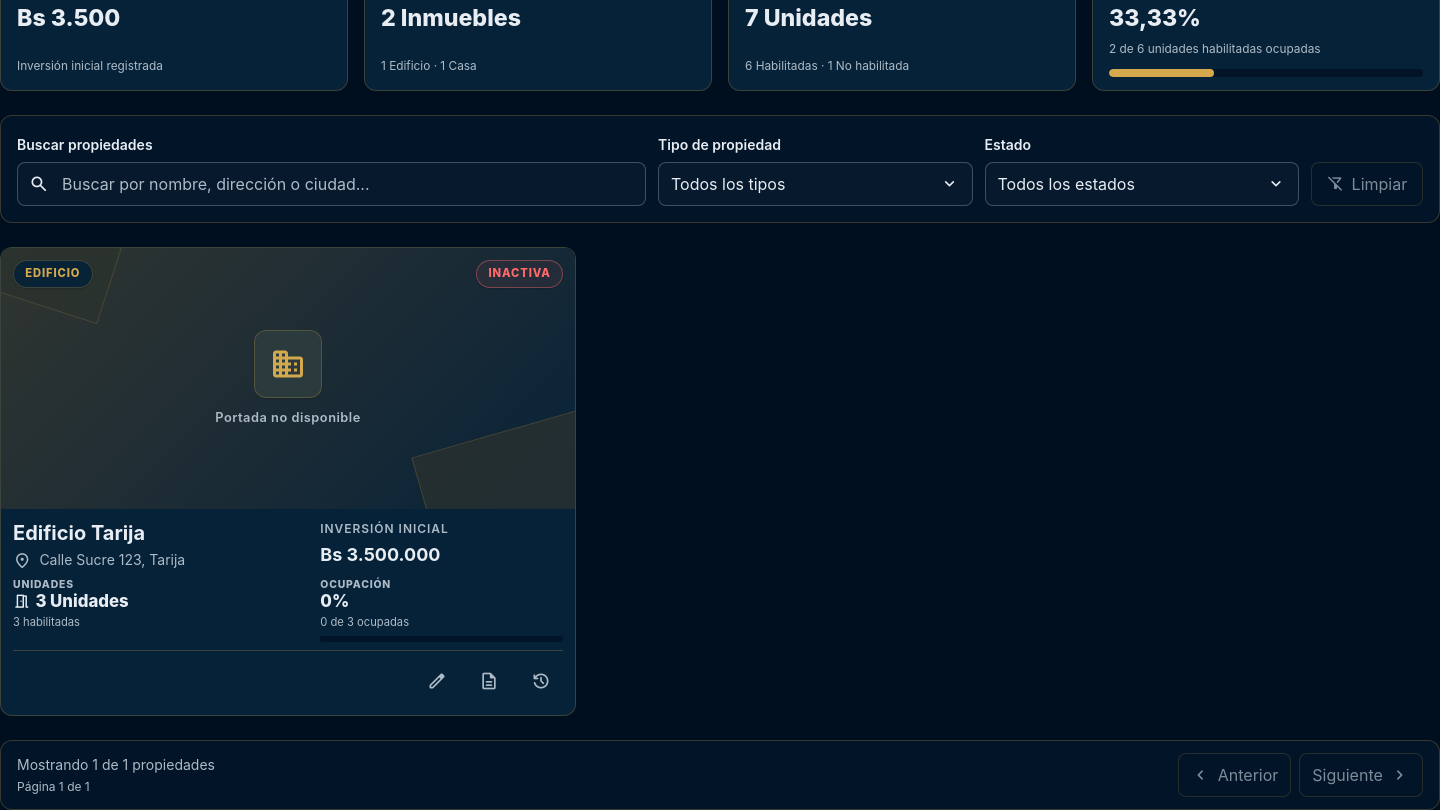
it: PropiedadesListComponent › activates an inactive property after confirmation and refreshes the list and summary
(page scrolled)
Click the button named "Activar propiedad": (541, 681) 519,659 -> 563,703
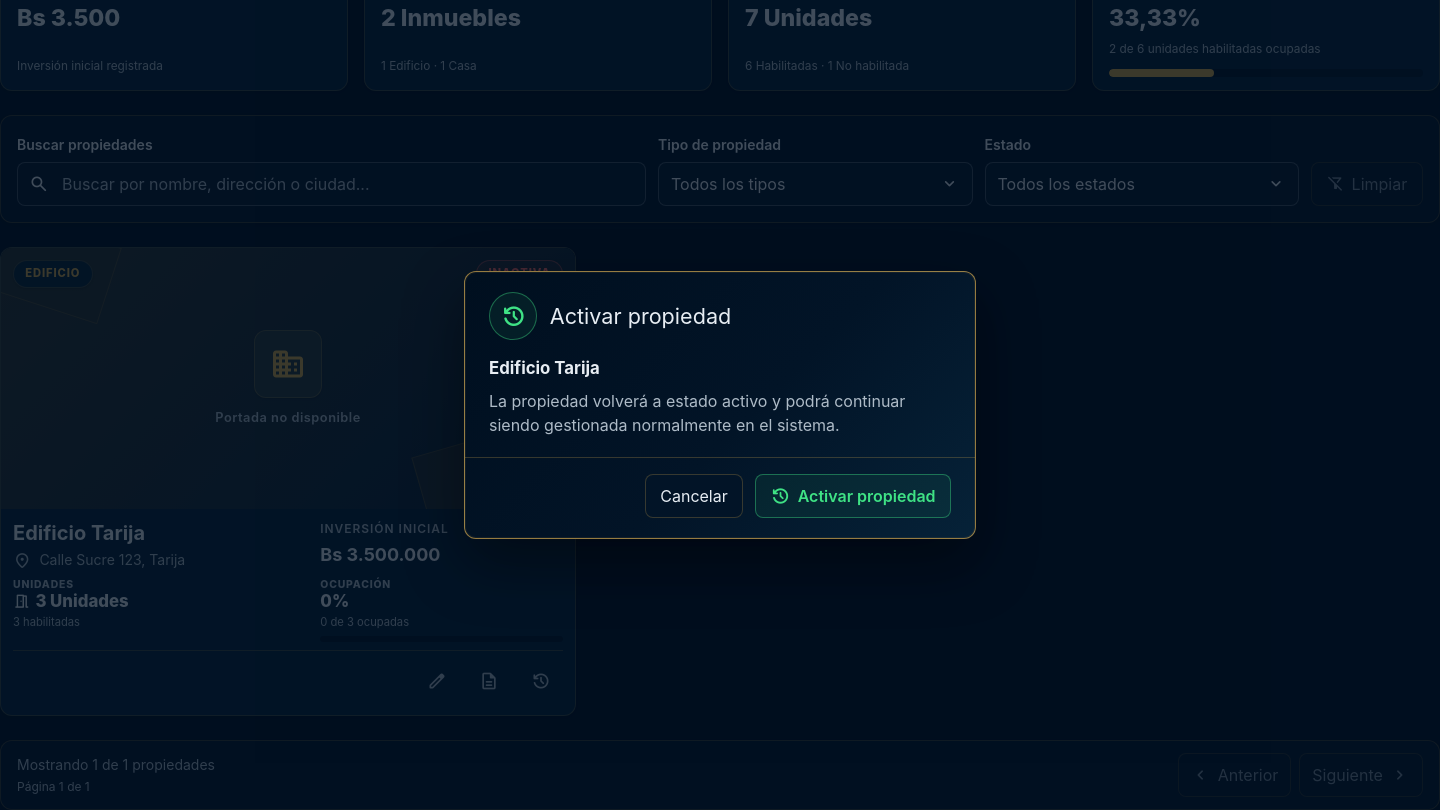
Click the button with class "confirm-button": (853, 496) 755,474 -> 951,518
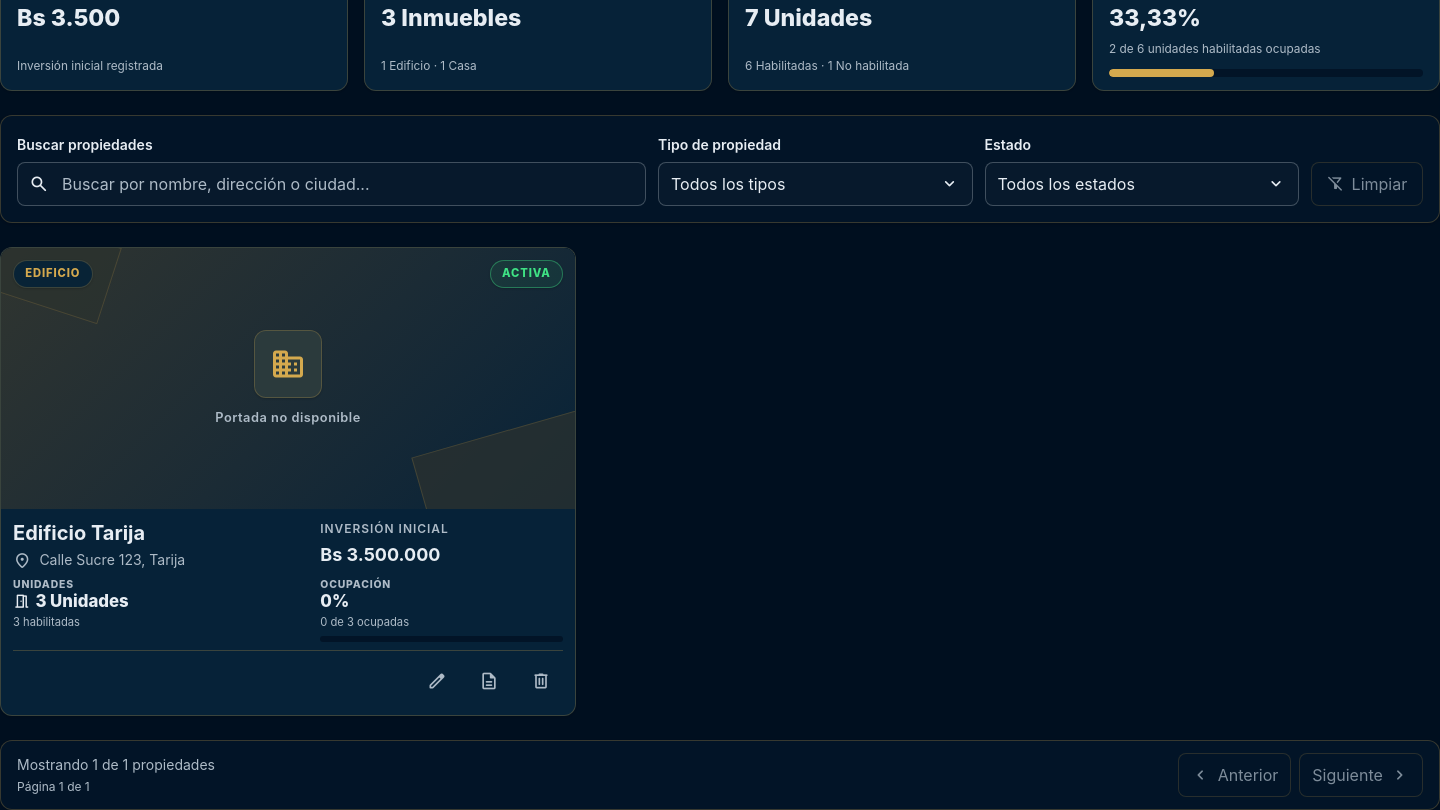
expect the button named "Desactivar propiedad" is shown: met, box 519,659 -> 563,703
expect the dialog is gone: met
